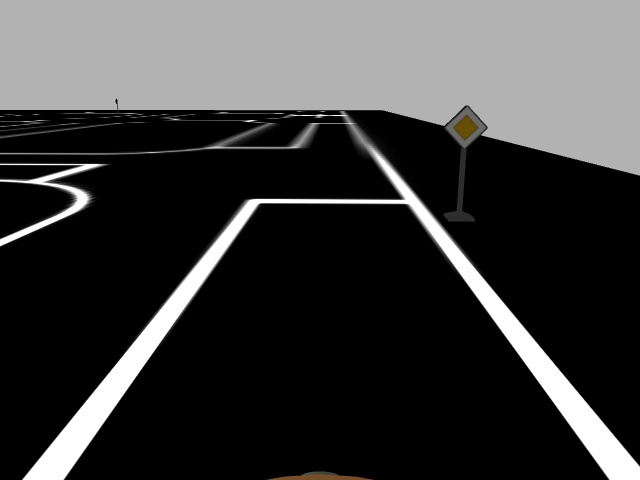priority: (443, 104, 488, 149)
